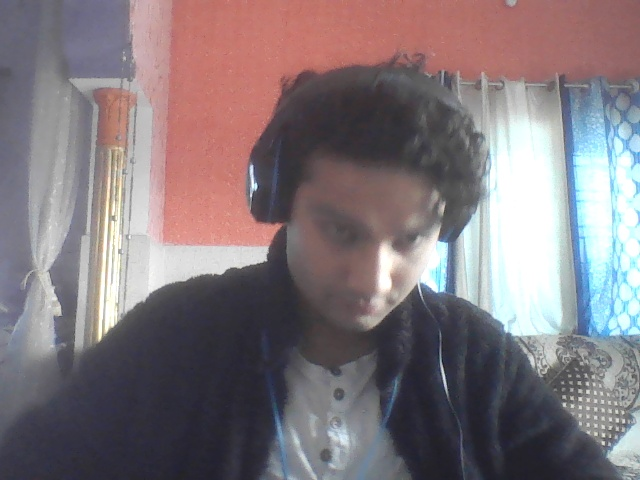real: (254, 83, 452, 363)
